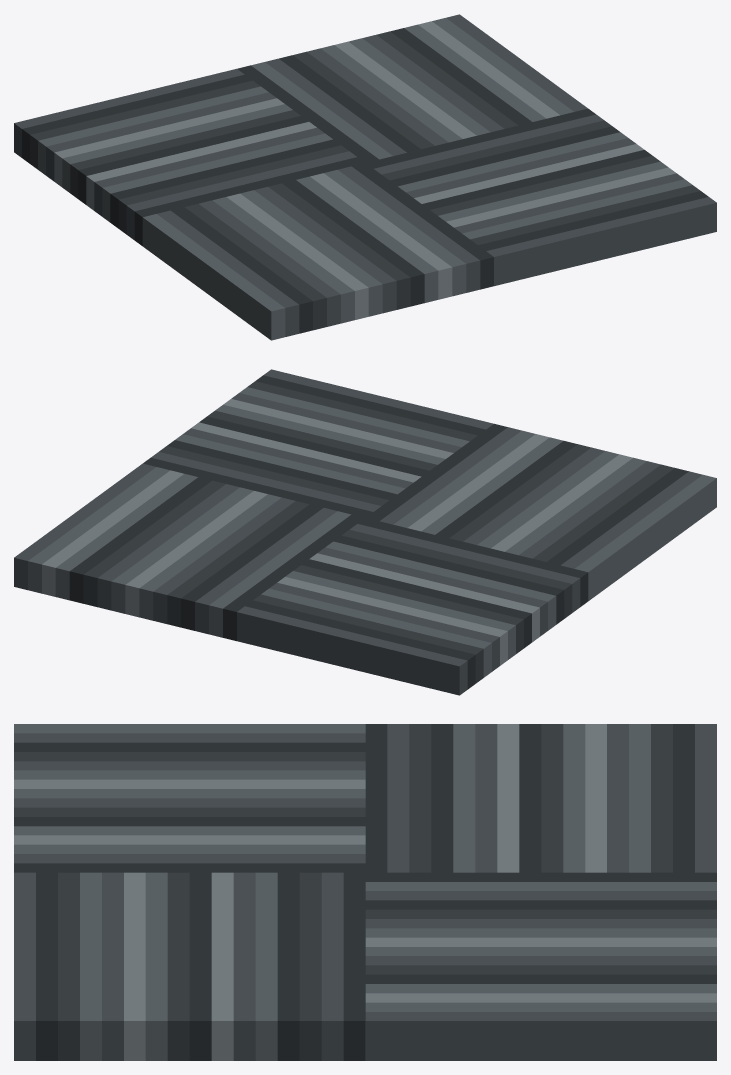
Rendered from classroom_lantai_3_floor_kali_8.obj.
3 views of the same model, one above another, from view 1: azimuth 30°, elevation 25°; view 2: azimuth 150°, elevation 25°; view 3: azimuth 270°, elevation 25° (orthographic). The views are drawn at different scales.
Size of the model in its own units: 3.2 by 0.2 by 3.2.
1 material, 1 textured.
